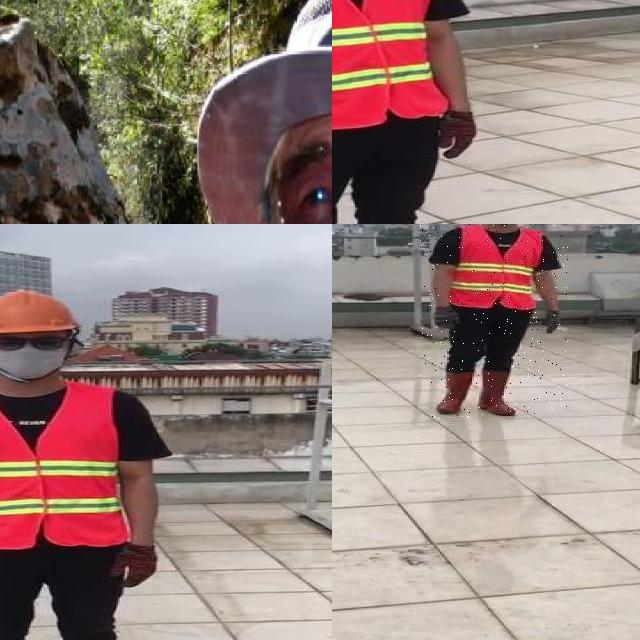boots: (477, 368, 520, 417), (440, 369, 472, 415)
face_mask: (0, 329, 71, 378)
glasses: (265, 131, 332, 224), (0, 332, 71, 353)
hand_glove: (111, 547, 157, 588), (440, 108, 476, 160)
head_helmet: (0, 286, 78, 334)
head_nohelmet: (236, 0, 332, 150)
person: (0, 289, 173, 640), (332, 0, 490, 224), (420, 224, 568, 417)
vest: (0, 381, 125, 549), (332, 0, 445, 129), (454, 225, 540, 312)
